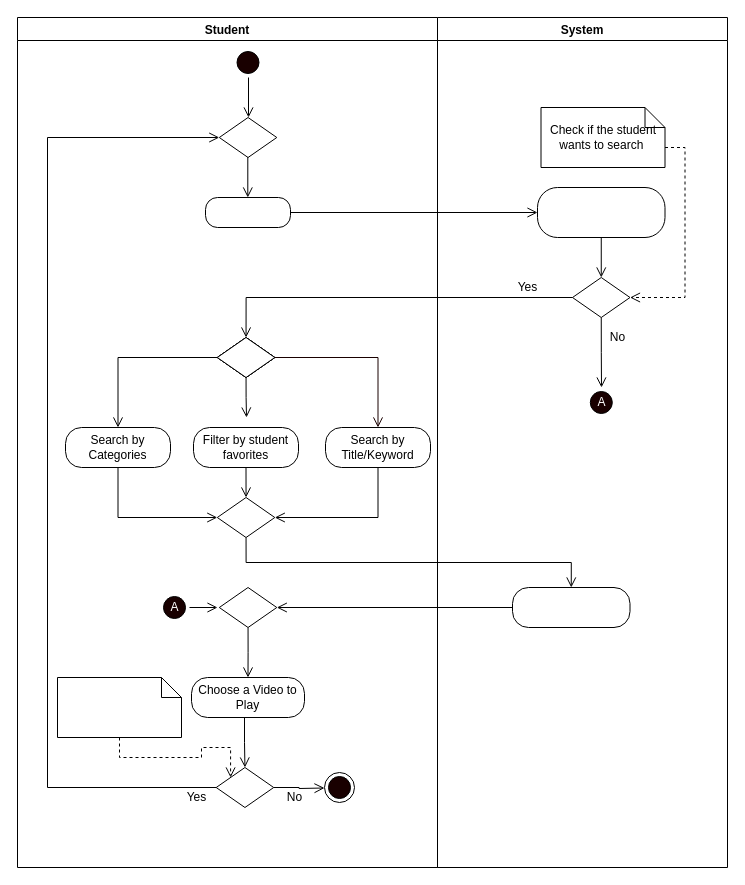
This 745x885 diagram has some shape labels left out. Here are the shapes that lost their labels. From the top down, the centre of each, then its label:
At point (247, 212): "Open Video Room".
At point (600, 212): "Display search bar and random videos".
At point (571, 607): "Display all video result from search".
At point (119, 707): "Check if the student wants to watch again".
